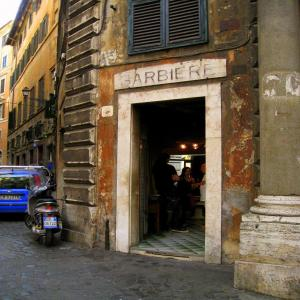Vehicle-registration-plate: (45, 218, 60, 229), (2, 195, 21, 200)
